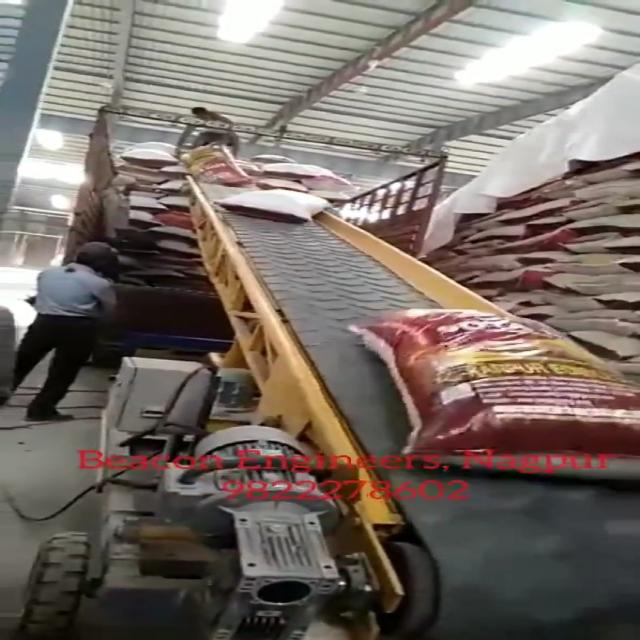Convoyeur: (188, 168, 640, 640)
